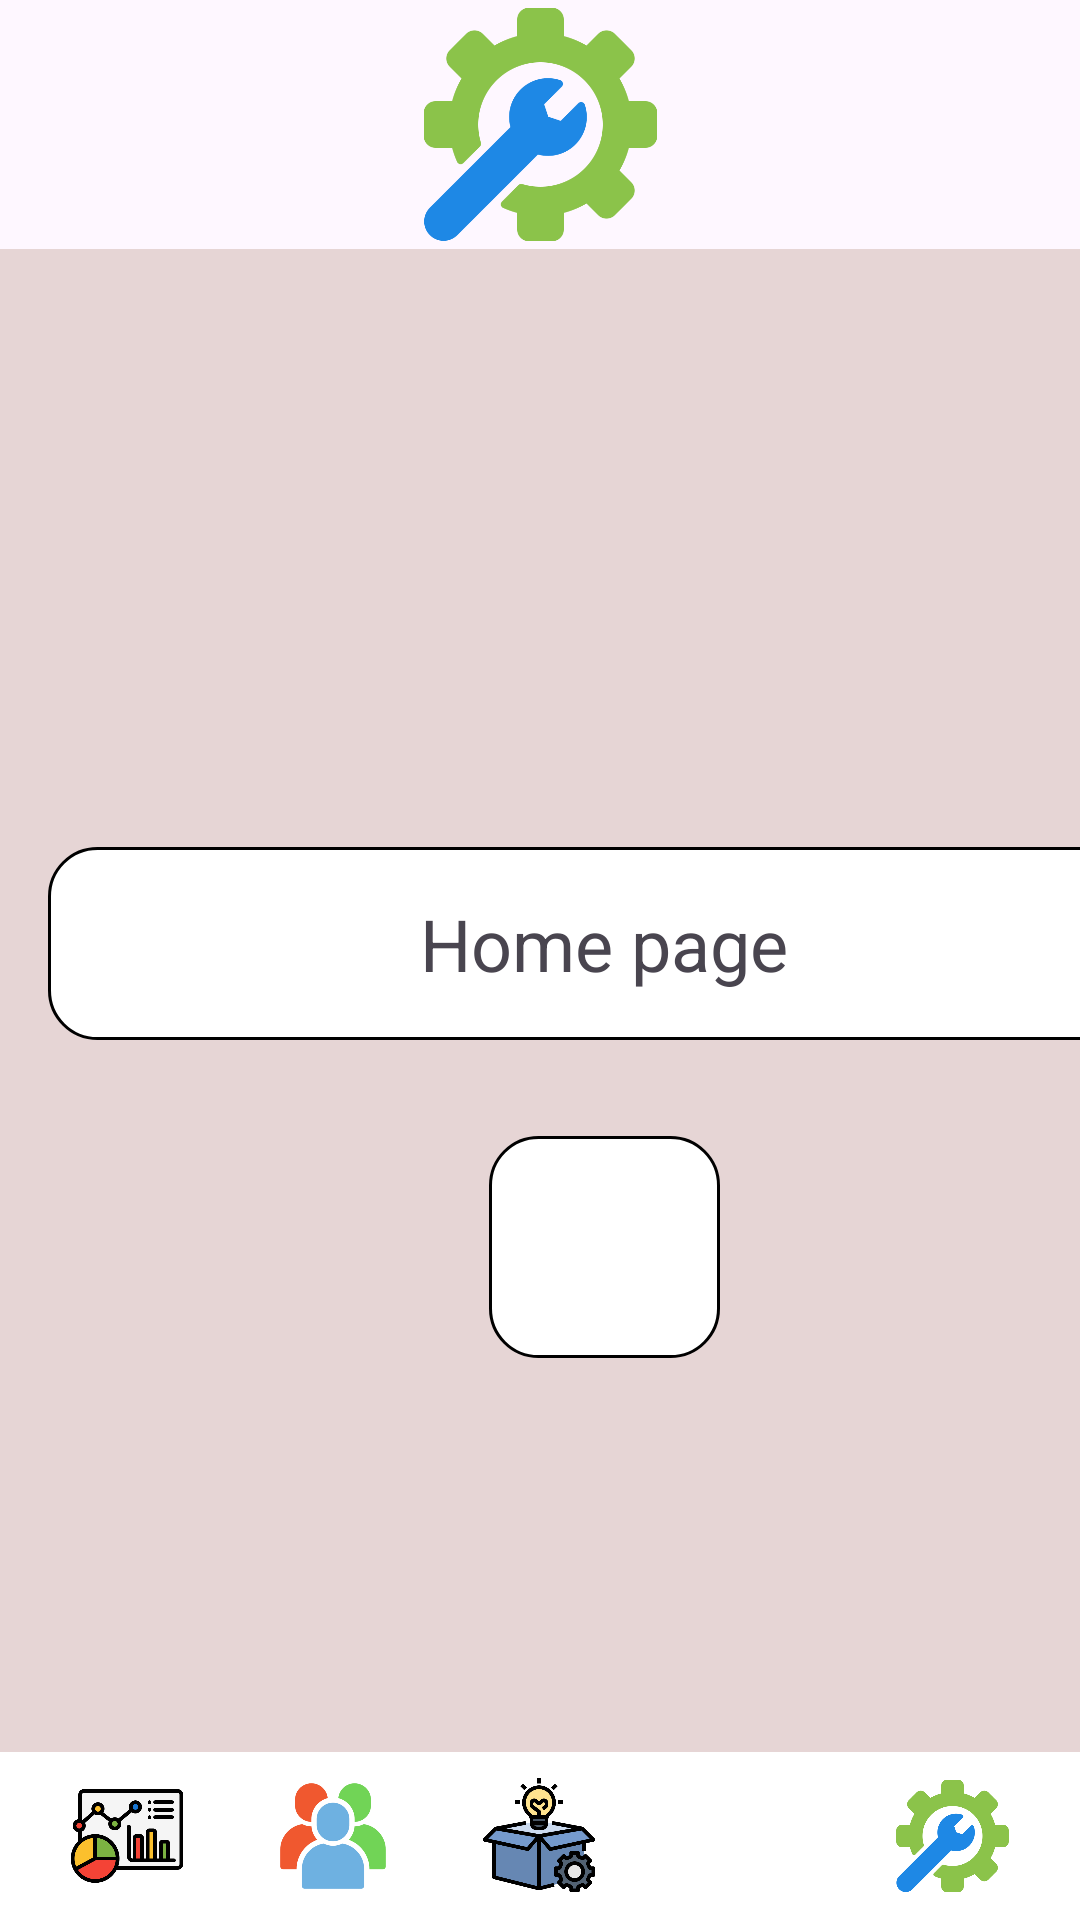

Icon click points for this 1080x1920 phone screenshot, format [x,y]:
dashboard: [127,1836]
product: [539,1835]
setting: [540,124], [952,1836]
users: [333,1836]
